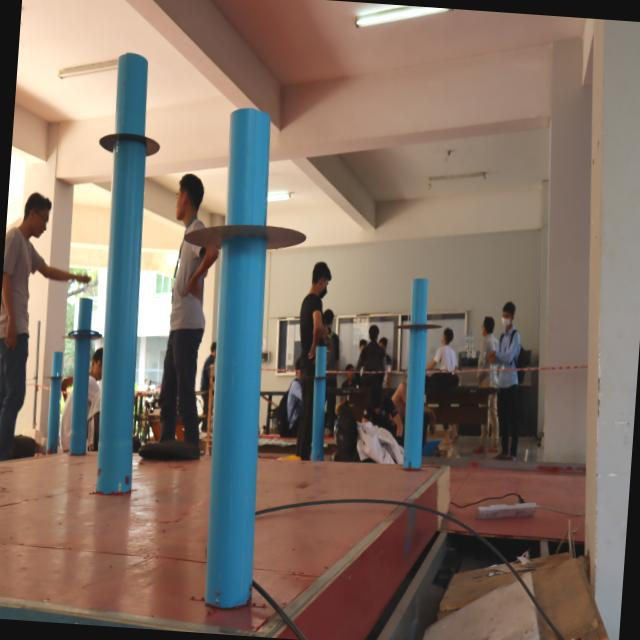pole: (184, 103, 318, 323), (90, 45, 166, 215), (398, 278, 444, 372), (60, 292, 106, 366), (301, 342, 342, 400), (42, 349, 72, 394)
